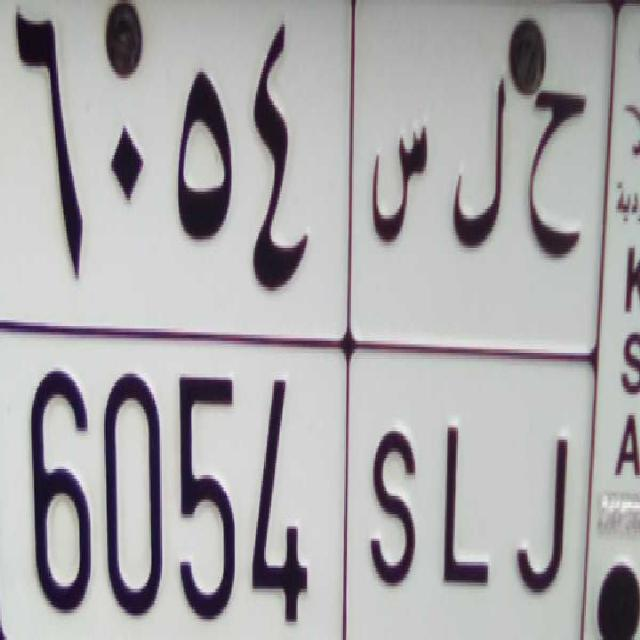license_plate: (0, 315, 592, 640)
